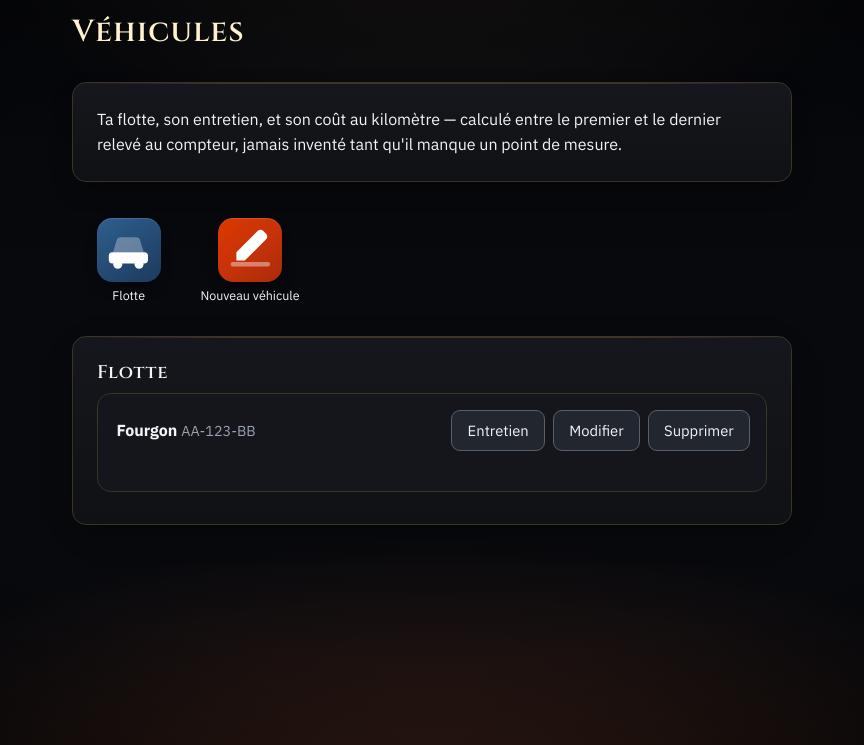
Test case: VehiculesPage › modifie un véhicule via le formulaire en ligne
Check: the text "Fourgon" is shown, box 116,420 -> 177,440
Click the button "Modifier" at (596,430), box 553,410 -> 640,451
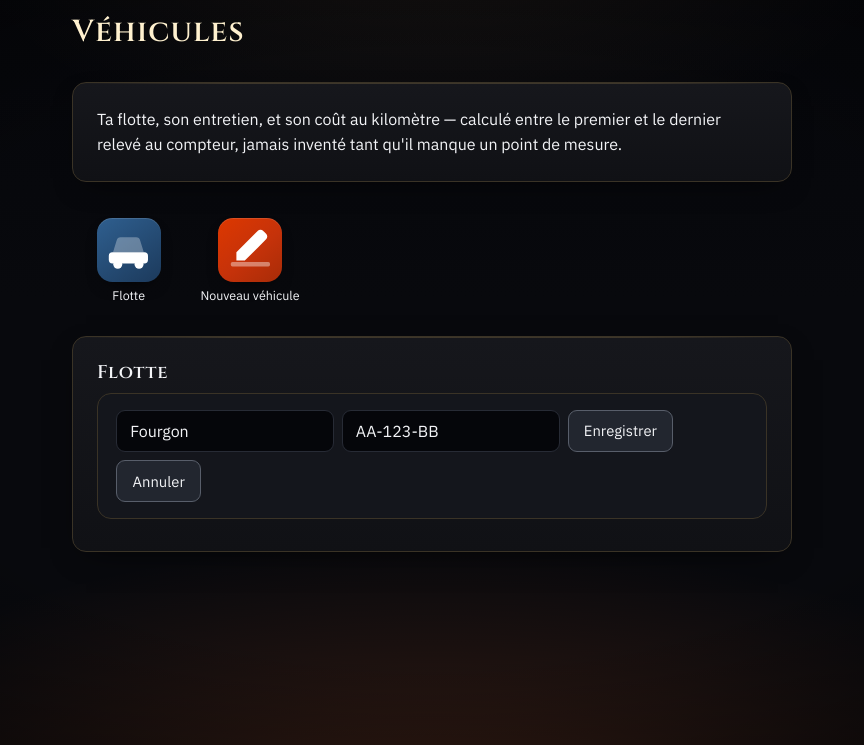
Replace the text in the field named "Nom de Fourgon" with "Camion" at (225,431), box 116,410 -> 334,452
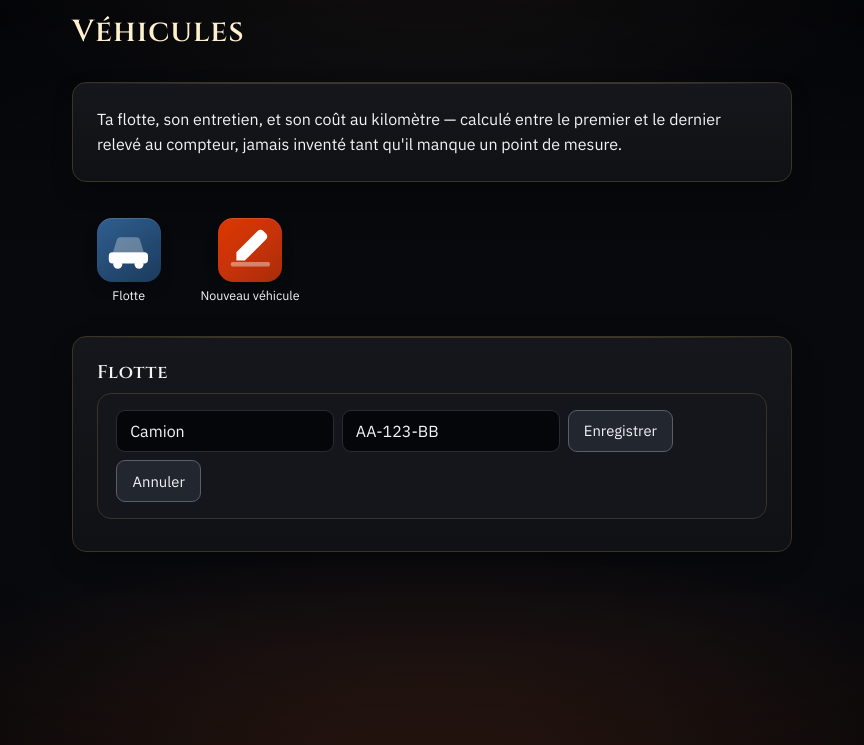
Click the button "Enregistrer" at (620,431), box 568,410 -> 673,452
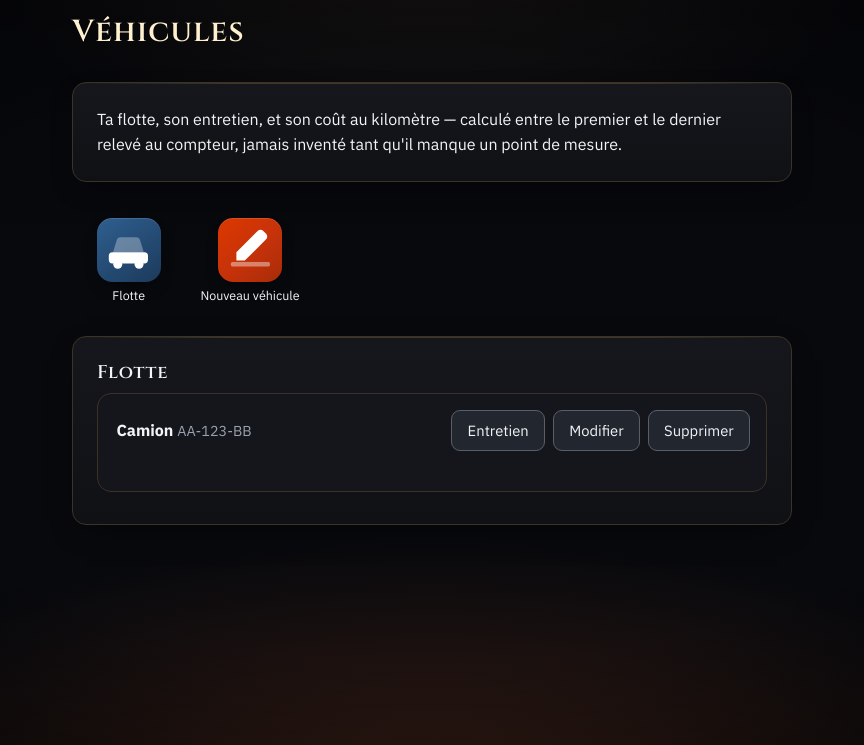
Check: the text "Camion" is shown, box 116,420 -> 173,440
